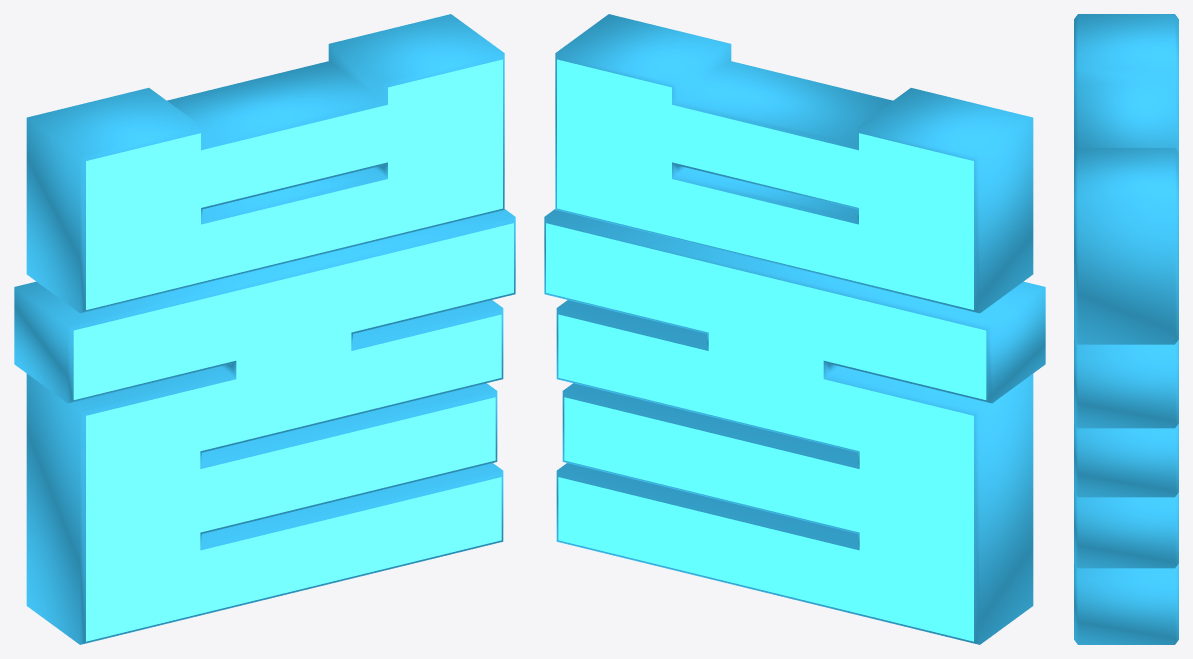
3 renders of one model, left to right at view 1: azimuth 30°, elevation 25°; view 2: azimuth 150°, elevation 25°; view 3: azimuth 270°, elevation 25°, orthographic. The views are drawn at different scales.
Parts seen in each view (by area): view 1: glyph; view 2: glyph; view 3: glyph.
Boxes of the visible parts, x1,y1,x2,y2 form: glyph: [14, 14, 515, 644]; glyph: [544, 14, 1045, 644]; glyph: [1074, 14, 1178, 644].
Bounding box in the file's own units: 0.1009 × 0.1051 × 0.0225.
